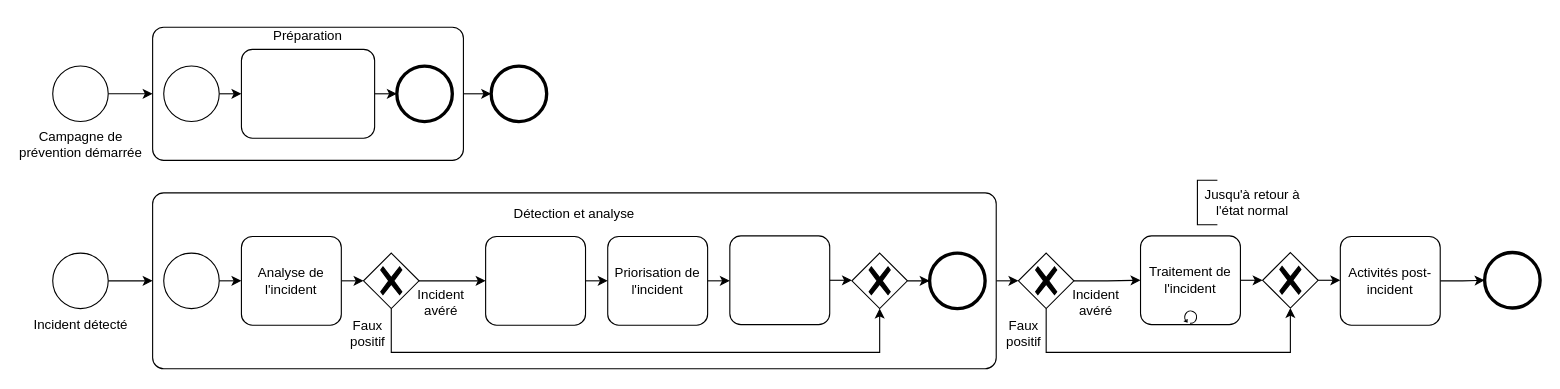
This 1560x389 diagram has some shape labels left out. The shapes that lost their labels are listed below. From the top down, each one's box as (x1, y1, x2, y2) in pixels, then its label:
(240, 48, 375, 138): Education, d'entraînement et sensibilisation à la sécurité
(485, 235, 586, 325): Documentation de l'incident
(729, 235, 830, 325): Notification
